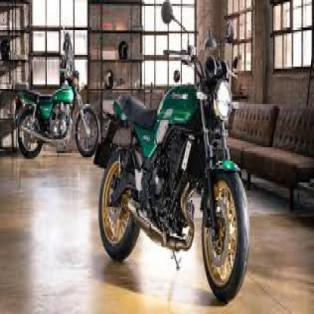Motocicleta: (93, 10, 251, 303), (14, 63, 104, 167)
